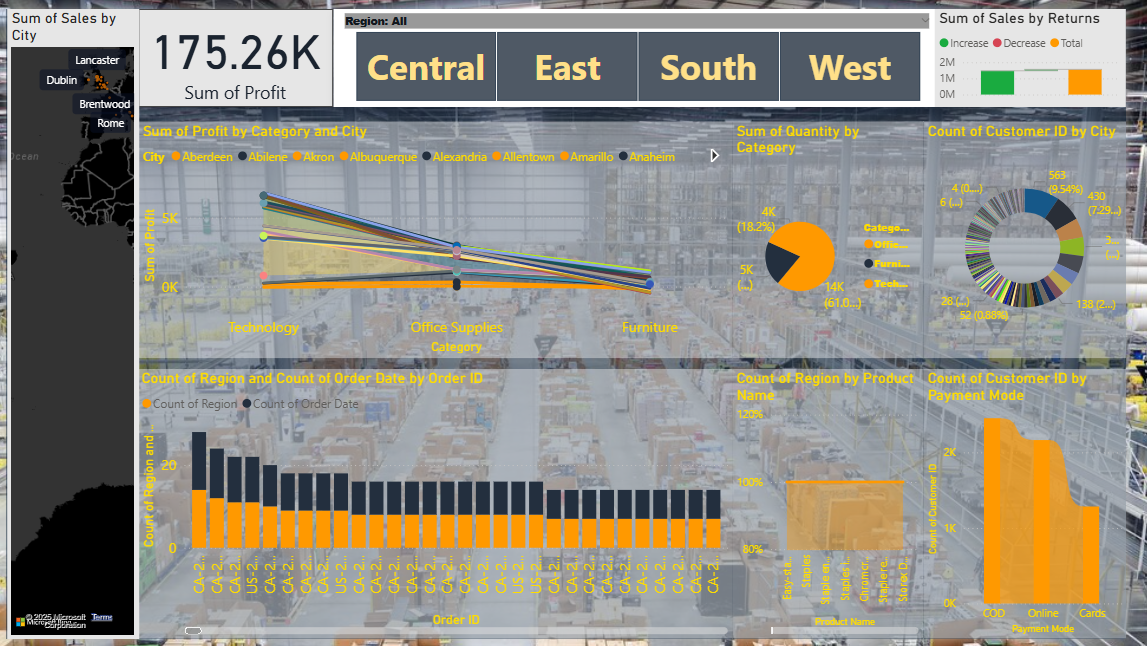

What the dashboard file says about the page in this screenshot:
{"tool":"powerbi","page":{"name":"Page 1","canvas":[1280,720],"ordinal":0},"visuals":[{"type":"card","fields":{"Values":["Sum(Amazon Store Sales Data xlsx -.Profit)"]},"box":[152,0,222,112],"z":0},{"type":"slicer","fields":{"Values":["Amazon Store Sales Data xlsx -.Region"]},"box":[374,0,694,112],"z":1000},{"type":"lineStackedColumnComboChart","fields":{"Category":["Amazon Store Sales Data xlsx -.Order ID"],"Y":["CountNonNull(Amazon Store Sales Data xlsx -.Region)","CountNonNull(Amazon Store Sales Data xlsx -.Order Date)"]},"box":[150,412,680,308],"z":2000},{"type":"stackedAreaChart","fields":{"Category":["Amazon Store Sales Data xlsx -.Category"],"Y":["Sum(Amazon Store Sales Data xlsx -.Profit)"],"Series":["Amazon Store Sales Data xlsx -.City"]},"box":[152,128,678,270],"z":3000},{"type":"donutChart","fields":{"Category":["Amazon Store Sales Data xlsx -.City"],"Y":["CountNonNull(Amazon Store Sales Data xlsx -.Customer ID)"]},"box":[1048.4,127.9,231.6,270.2],"z":4000},{"type":"map","fields":{"Category":["Amazon Store Sales Data xlsx -.City"],"Size":["Sum(Amazon Store Sales Data xlsx -.Sales)"]},"box":[2,0,150,720],"z":5000},{"type":"ribbonChart","fields":{"Category":["Amazon Store Sales Data xlsx -.Payment Mode"],"Y":["CountNonNull(Amazon Store Sales Data xlsx -.Customer ID)"]},"box":[1048,412,232,308],"z":6000},{"type":"pieChart","fields":{"Category":["Amazon Store Sales Data xlsx -.Category"],"Y":["Sum(Amazon Store Sales Data xlsx -.Quantity)"]},"box":[830,127.9,218.4,270.2],"z":7000},{"type":"waterfallChart","fields":{"Category":["Amazon Store Sales Data xlsx -.Returns"],"Y":["Sum(Amazon Store Sales Data xlsx -.Sales)"]},"box":[1062,0,218,112],"z":8000},{"type":"hundredPercentStackedAreaChart","fields":{"Y":["CountNonNull(Amazon Store Sales Data xlsx -.Region)"],"Category":["Amazon Store Sales Data xlsx -.Product Name"]},"box":[830,412,218,308],"z":9000}]}

Visuals, with their boxes in screenshot pixels (x1, y1, x2, y2):
card - Sum(Amazon Store Sales Data xlsx -.Profit): {"left": 134, "top": 3, "right": 331, "bottom": 102}
slicer - Amazon Store Sales Data xlsx -.Region: {"left": 331, "top": 3, "right": 944, "bottom": 102}
lineStackedColumnComboChart - Amazon Store Sales Data xlsx -.Order ID x CountNonNull(Amazon Store Sales Data xlsx -.Region): {"left": 133, "top": 367, "right": 733, "bottom": 639}
stackedAreaChart - Amazon Store Sales Data xlsx -.Category x Sum(Amazon Store Sales Data xlsx -.Profit): {"left": 134, "top": 116, "right": 733, "bottom": 355}
donutChart - Amazon Store Sales Data xlsx -.City x CountNonNull(Amazon Store Sales Data xlsx -.Customer ID): {"left": 926, "top": 116, "right": 1131, "bottom": 355}
map - Amazon Store Sales Data xlsx -.City x Sum(Amazon Store Sales Data xlsx -.Sales): {"left": 2, "top": 3, "right": 134, "bottom": 639}
ribbonChart - Amazon Store Sales Data xlsx -.Payment Mode x CountNonNull(Amazon Store Sales Data xlsx -.Customer ID): {"left": 926, "top": 367, "right": 1131, "bottom": 639}
pieChart - Amazon Store Sales Data xlsx -.Category x Sum(Amazon Store Sales Data xlsx -.Quantity): {"left": 733, "top": 116, "right": 926, "bottom": 355}
waterfallChart - Amazon Store Sales Data xlsx -.Returns x Sum(Amazon Store Sales Data xlsx -.Sales): {"left": 939, "top": 3, "right": 1131, "bottom": 102}
hundredPercentStackedAreaChart - CountNonNull(Amazon Store Sales Data xlsx -.Region) x Amazon Store Sales Data xlsx -.Product Name: {"left": 733, "top": 367, "right": 926, "bottom": 639}
